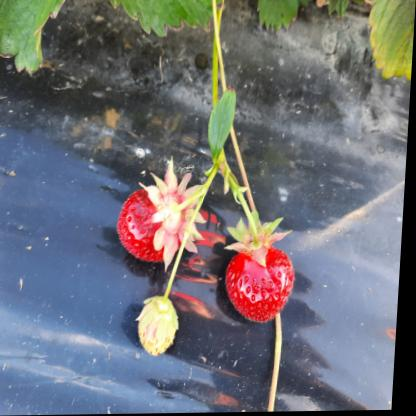ripe: (120, 178, 189, 266), (228, 248, 300, 323)
unripe: (142, 302, 180, 356)
